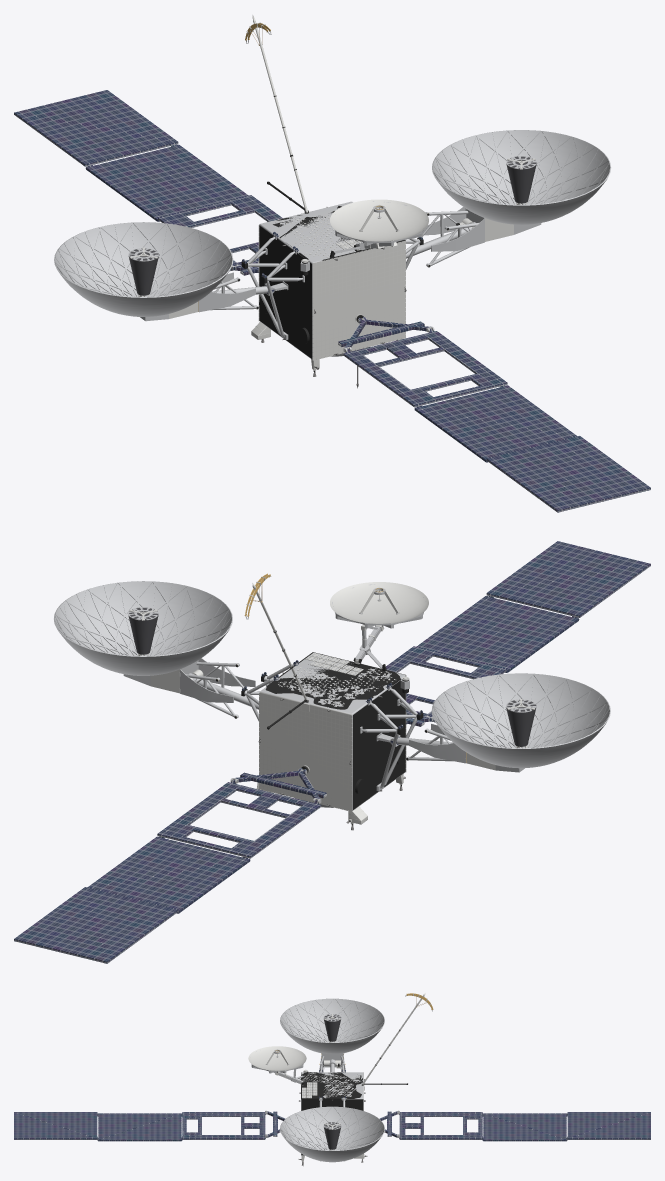
Rendered from tdrs.glb.
3 renders of one model, top to bottom at view 1: azimuth 30°, elevation 25°; view 2: azimuth 150°, elevation 25°; view 3: azimuth 270°, elevation 25°, orthographic. The views are drawn at different scales.
Visible parts, largest first — view 1: mainbody; view 2: mainbody; view 3: mainbody.
Boxes of the visible parts, bbox=[...] form: mainbody: bbox=[14, 15, 650, 512]; mainbody: bbox=[14, 541, 650, 963]; mainbody: bbox=[14, 993, 650, 1166].
Size of the model in its own units: 9.85 by 5.26 by 17.4.
Materials: 8 (1 with a texture image).
